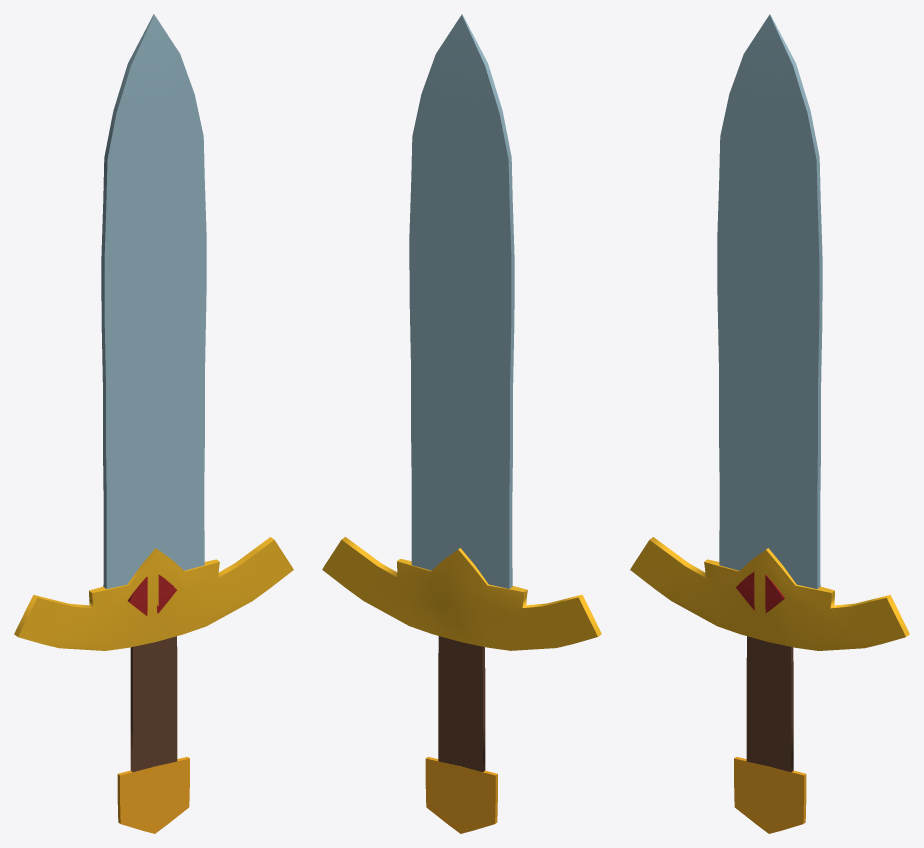
The model's file is Game project sword.fbx.
3 views of the same model, side by side, from view 1: azimuth 30°, elevation 25°; view 2: azimuth 150°, elevation 25°; view 3: azimuth 330°, elevation 25° (orthographic).
Parts seen in each view (by area): view 1: Plane.004, Plane.001, Plane.003, Plane.002, Plane.006; view 2: Plane.004, Plane.001, Plane.003, Plane.002; view 3: Plane.004, Plane.001, Plane.003, Plane.002, Plane.006.
Part boxes in pixels (x1,y1,x2,y2): Plane.004: (101,14,206,588); Plane.001: (14,537,293,650); Plane.003: (130,636,177,771); Plane.002: (117,757,189,833); Plane.006: (128,574,176,615); Plane.004: (409,14,514,588); Plane.001: (322,537,601,650); Plane.003: (438,636,485,771); Plane.002: (425,757,497,833); Plane.004: (717,14,822,588); Plane.001: (630,537,909,650); Plane.003: (746,636,793,771); Plane.002: (734,757,806,833); Plane.006: (736,572,784,613).
Bounding box in the file's own units: 3.23 × 9.16 × 0.1741.
